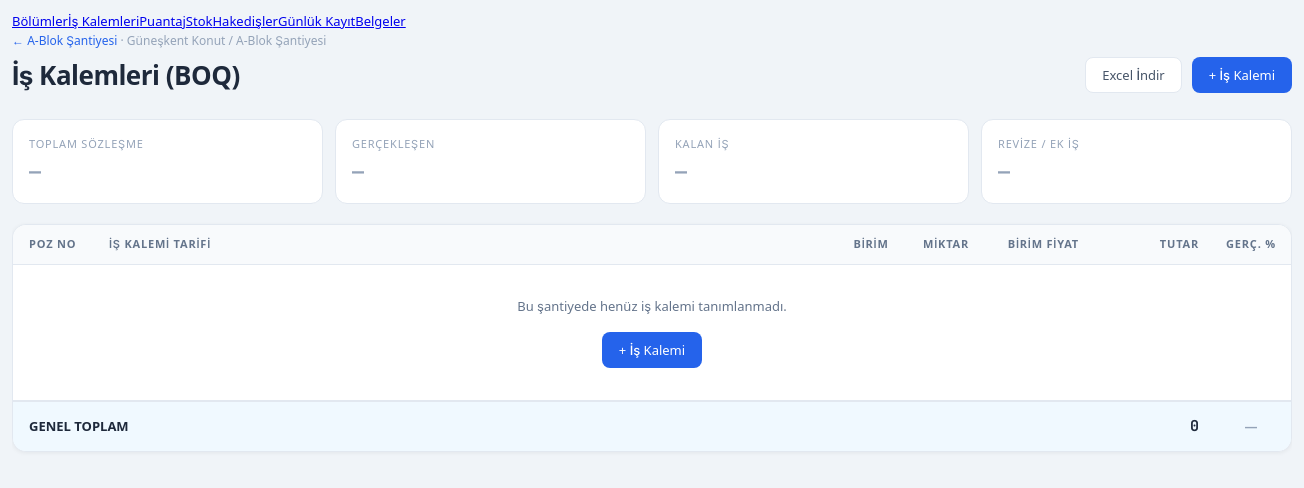
Test case: BoqPage — Excel İndir (spec §8.3) › 403'te 'Bu işlem için yetkiniz yok' satırı basılır
Click the button "Excel İndir" at (1134, 75), box [1085, 57, 1182, 93]
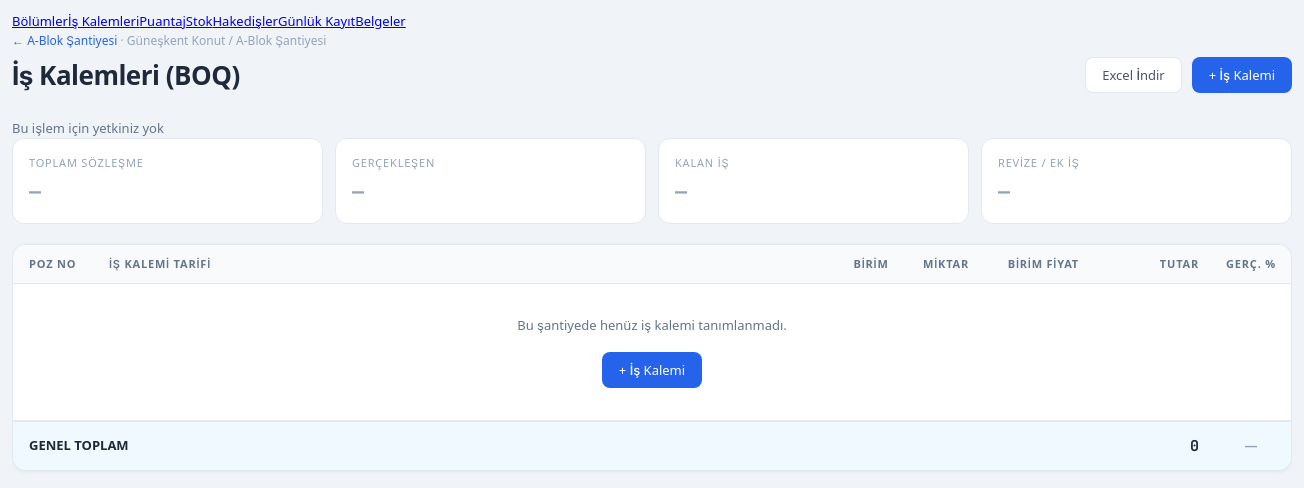
Now the text "Bu işlem için yetkiniz yok" is shown, box [12, 118, 164, 136]
